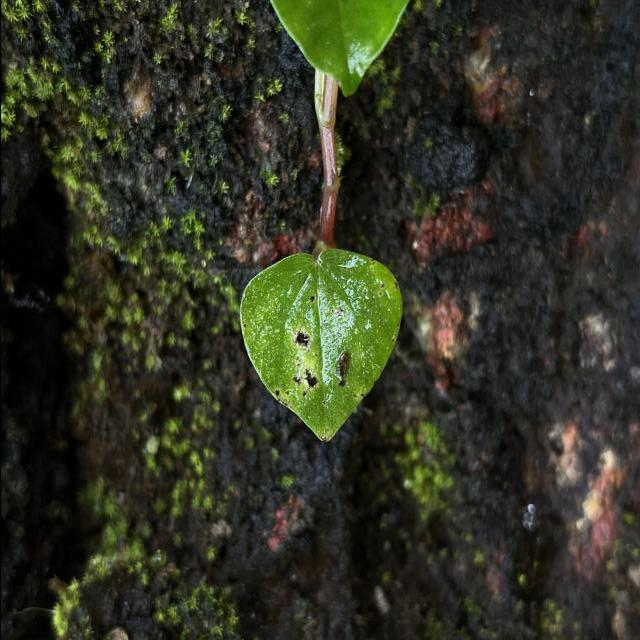Peperomia pellucida: (236, 245, 404, 448)
